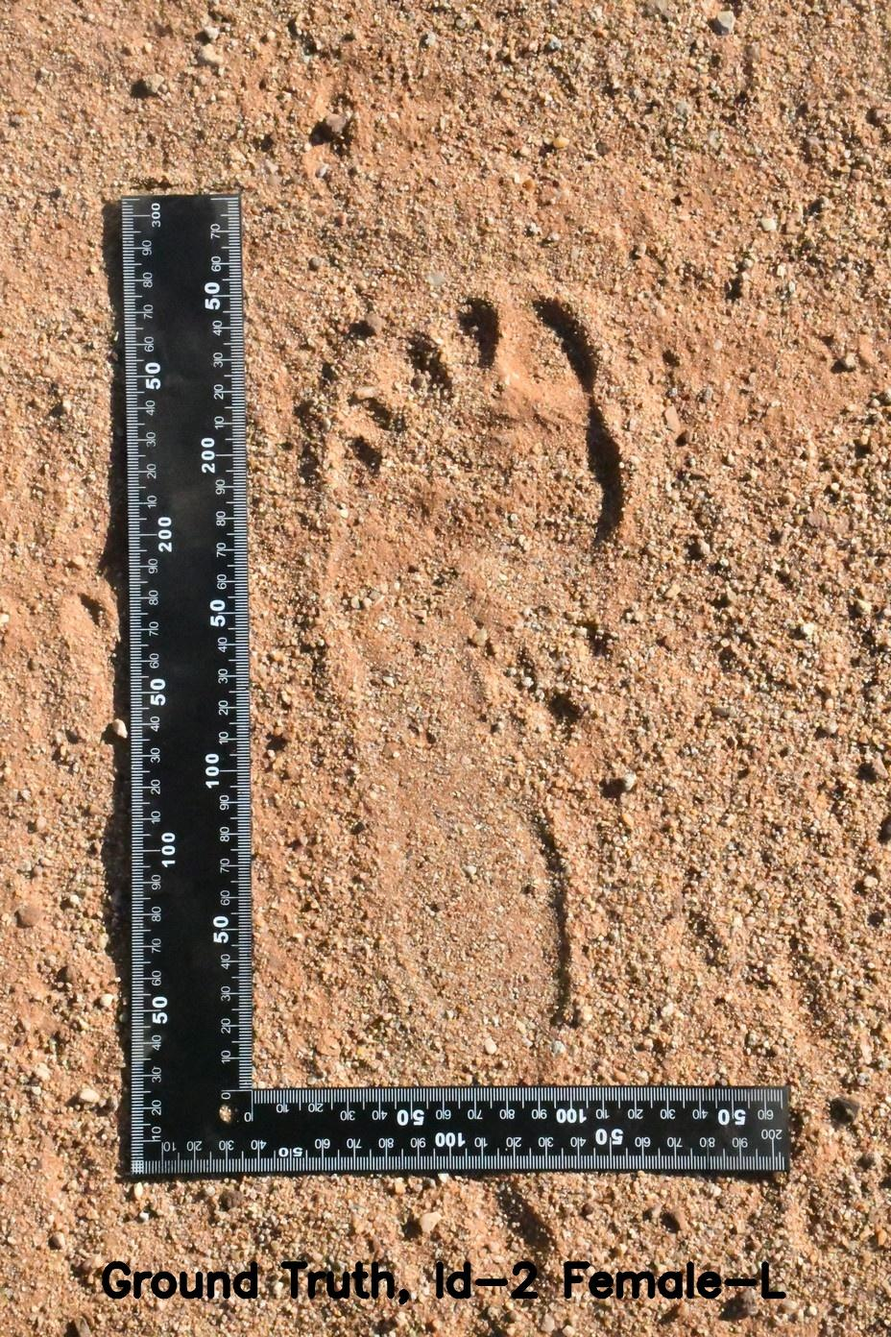human_foot_print: (282, 193, 711, 1085)
